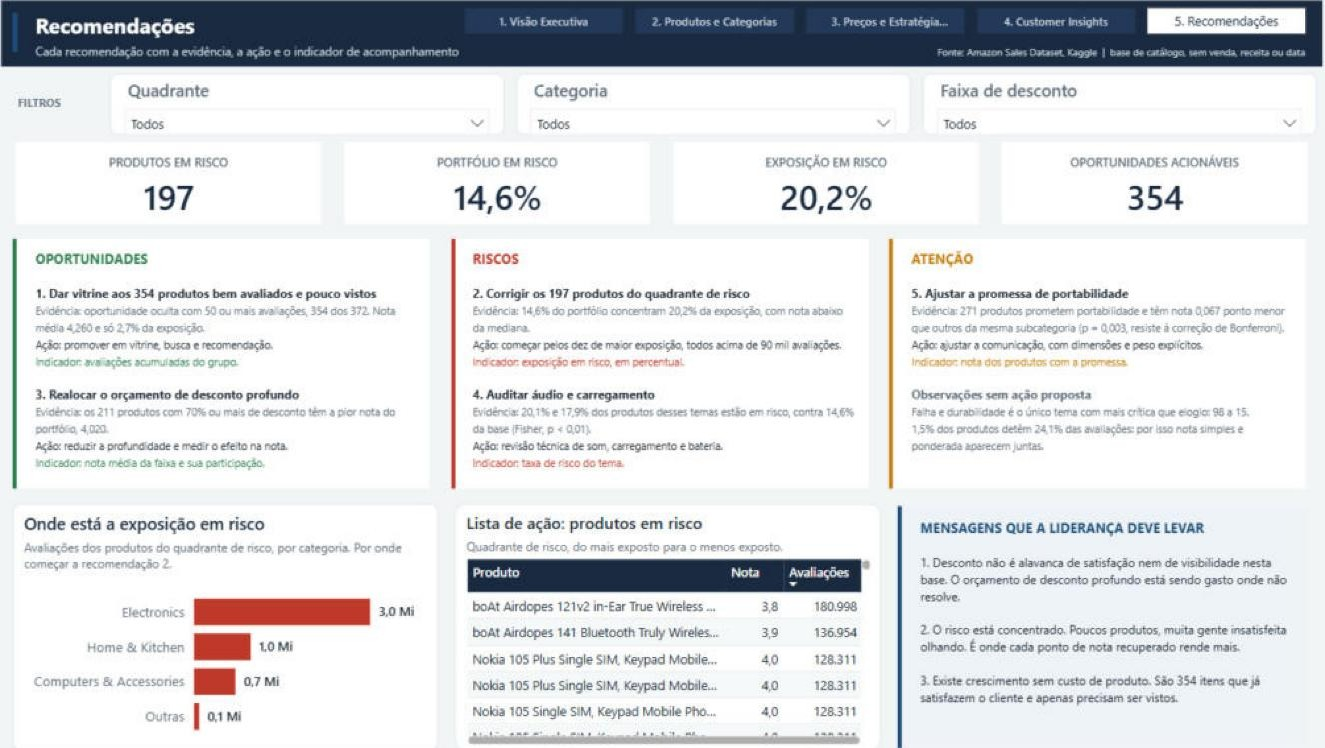

What the dashboard file says about the page in this screenshot:
{"tool":"powerbi","page":{"name":"5. Recomendações","canvas":[1280,720],"ordinal":4},"visuals":[{"type":"basicShape","box":[0,0,1280,64],"z":0},{"type":"basicShape","box":[0,64,1280,2],"z":1000},{"type":"basicShape","box":[24,12,5,38],"z":2000},{"type":"textbox","box":[40,6,400,41],"z":3000},{"type":"textbox","box":[40,36,760,28],"z":4000},{"type":"textbox","box":[800,36,456,26],"z":6000},{"type":"textbox","box":[24,84,84,28],"z":7000},{"type":"slicer","fields":{"Values":["fProdutos.quadrante"]},"box":[116,70,374,58],"z":8000},{"type":"slicer","fields":{"Values":["fProdutos.categoria_n1_agrupada"]},"box":[502,70,374,58],"z":9000},{"type":"slicer","fields":{"Values":["fProdutos.faixa_desconto"]},"box":[888,70,374,58],"z":10000},{"type":"basicShape","box":[24,134,296,80],"z":11000},{"type":"basicShape","box":[24,134,296,4],"z":12000},{"type":"card","title":"PRODUTOS EM RISCO","fields":{"Values":["fProdutos.Produtos em Risco"]},"box":[24,140,296,74],"z":13000},{"type":"basicShape","box":[960,134,296,80],"z":14000},{"type":"basicShape","box":[960,134,296,4],"z":15000},{"type":"card","title":"OPORTUNIDADES ACIONÁVEIS","fields":{"Values":["fProdutos.Oportunidades Ocultas"]},"box":[960,140,296,74],"z":16000},{"type":"basicShape","box":[648,134,296,80],"z":17000},{"type":"basicShape","box":[648,134,296,4],"z":18000},{"type":"card","title":"EXPOSIÇÃO EM RISCO","fields":{"Values":["fProdutos.Exposicao em Risco %"]},"box":[648,140,296,74],"z":19000},{"type":"basicShape","box":[336,134,296,80],"z":20000},{"type":"basicShape","box":[336,134,296,4],"z":21000},{"type":"card","title":"PORTFÓLIO EM RISCO","fields":{"Values":["fProdutos.Portfolio em Risco %"]},"box":[336,140,296,74],"z":22000},{"type":"basicShape","box":[24,224,400,242],"z":23000},{"type":"basicShape","box":[440,224,400,242],"z":24000},{"type":"basicShape","box":[856,224,400,242],"z":25000},{"type":"basicShape","box":[24,224,4,242],"z":26000},{"type":"basicShape","box":[440,224,4,242],"z":27000},{"type":"basicShape","box":[856,224,4,242],"z":28000},{"type":"textbox","box":[40,232,374,226],"z":29000},{"type":"textbox","box":[456,232,374,226],"z":30000},{"type":"textbox","box":[872,232,374,226],"z":31000},{"type":"clusteredBarChart","title":"Onde está a exposição em risco","fields":{"Category":["fProdutos.categoria_n1_agrupada"],"Y":["fProdutos.Avaliacoes em Risco"]},"box":[24,478,404,234],"z":32000},{"type":"basicShape","box":[864,478,392,234],"z":33000},{"type":"tableEx","title":"Lista de ação: produtos em risco","fields":{"Values":["fProdutos.rotulo","fProdutos.nota","fProdutos.qtd_avaliacoes"]},"box":[444,478,404,234],"z":34000},{"type":"basicShape","box":[864,478,4,234],"z":35000},{"type":"textbox","box":[880,488,360,216],"z":36000},{"type":"pageNavigator","box":[452,7,804,26],"z":60000}]}

Visuals, with their boxes in screenshot pixels (x1, y1, x2, y2), scaled from the page's 1280x720 canvas onto the 1325x748 screenshot:
basicShape: l=0, t=0, r=1324, b=66
basicShape: l=0, t=66, r=1324, b=69
basicShape: l=25, t=12, r=30, b=52
textbox: l=41, t=6, r=455, b=49
textbox: l=41, t=37, r=828, b=66
textbox: l=828, t=37, r=1300, b=64
textbox: l=25, t=87, r=112, b=116
slicer - fProdutos.quadrante: l=120, t=73, r=507, b=133
slicer - fProdutos.categoria_n1_agrupada: l=520, t=73, r=907, b=133
slicer - fProdutos.faixa_desconto: l=919, t=73, r=1306, b=133
basicShape: l=25, t=139, r=331, b=222
basicShape: l=25, t=139, r=331, b=143
"PRODUTOS EM RISCO" card: l=25, t=145, r=331, b=222
basicShape: l=994, t=139, r=1300, b=222
basicShape: l=994, t=139, r=1300, b=143
"OPORTUNIDADES ACIONÁVEIS" card: l=994, t=145, r=1300, b=222
basicShape: l=671, t=139, r=977, b=222
basicShape: l=671, t=139, r=977, b=143
"EXPOSIÇÃO EM RISCO" card: l=671, t=145, r=977, b=222
basicShape: l=348, t=139, r=654, b=222
basicShape: l=348, t=139, r=654, b=143
"PORTFÓLIO EM RISCO" card: l=348, t=145, r=654, b=222
basicShape: l=25, t=233, r=439, b=484
basicShape: l=455, t=233, r=870, b=484
basicShape: l=886, t=233, r=1300, b=484
basicShape: l=25, t=233, r=29, b=484
basicShape: l=455, t=233, r=460, b=484
basicShape: l=886, t=233, r=890, b=484
textbox: l=41, t=241, r=429, b=476
textbox: l=472, t=241, r=859, b=476
textbox: l=903, t=241, r=1290, b=476
"Onde está a exposição em risco" clusteredBarChart: l=25, t=497, r=443, b=740
basicShape: l=894, t=497, r=1300, b=740
"Lista de ação: produtos em risco" tableEx: l=460, t=497, r=878, b=740
basicShape: l=894, t=497, r=899, b=740
textbox: l=911, t=507, r=1284, b=731
pageNavigator: l=468, t=7, r=1300, b=34
